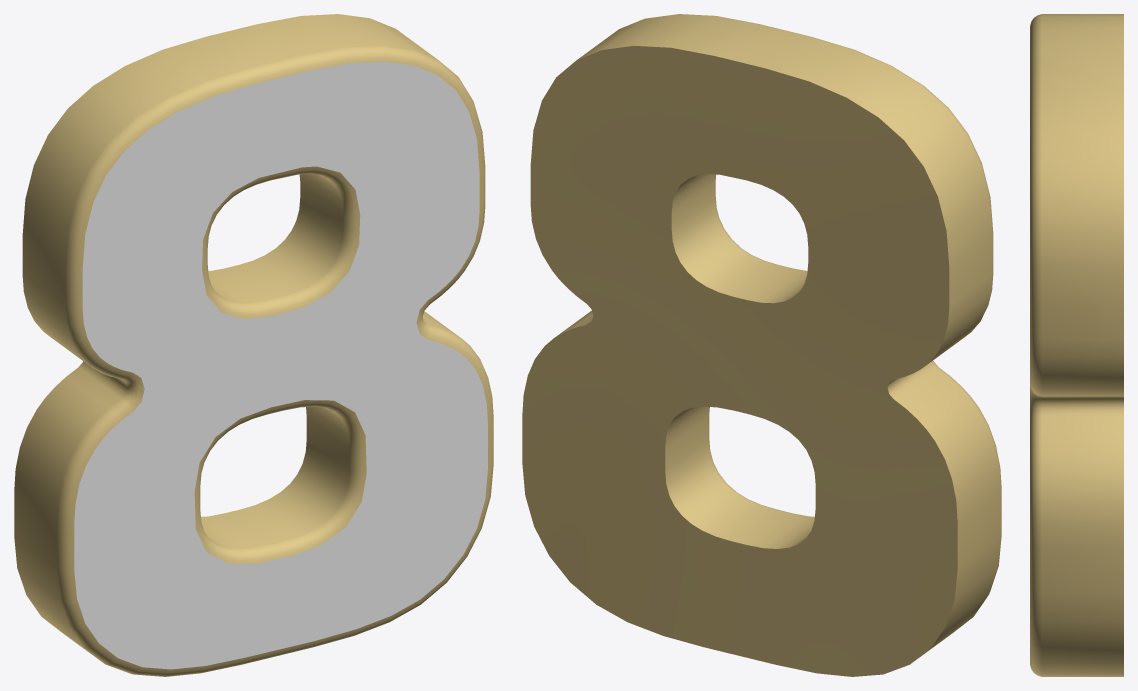
File: LettersLightUp02_8.FBX
The picture shows the model from 3 angles, left to right: view 1: azimuth 30°, elevation 25°; view 2: azimuth 150°, elevation 25°; view 3: azimuth 270°, elevation 25°; orthographic projection. The views are drawn at different scales.
Parts seen in each view (by area): view 1: LettersLightUp02_8; view 2: LettersLightUp02_8; view 3: LettersLightUp02_8.
Boxes of the visible parts, box(x1,y1,x2,y2) form: LettersLightUp02_8: box(14, 14, 493, 676); LettersLightUp02_8: box(522, 14, 1001, 676); LettersLightUp02_8: box(1030, 14, 1123, 676).
Size of what is drawn, in the model's own units: 0.4667 by 0.608 by 0.0912.
